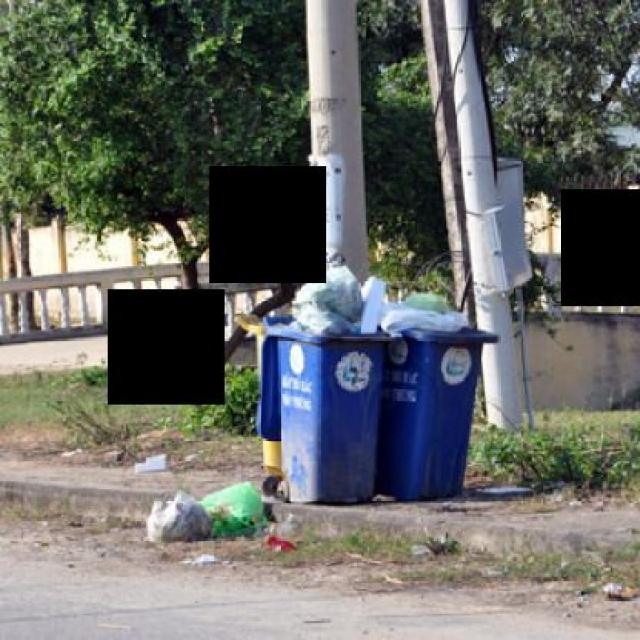plastic bag: (376, 276, 466, 338), (200, 468, 272, 540)
